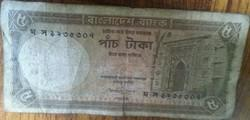5 taka: (3, 2, 236, 116)
